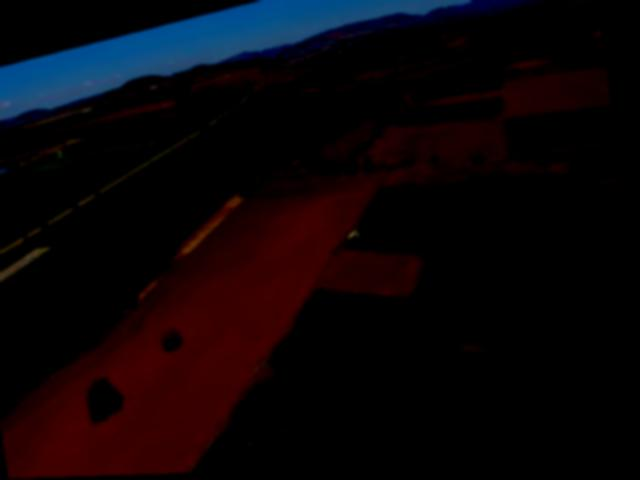uav: (342, 222, 372, 248)
